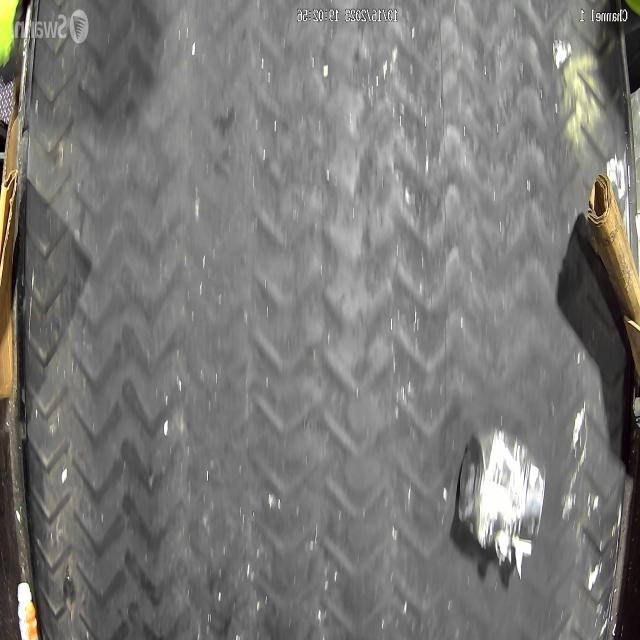can: (455, 428, 543, 558)
